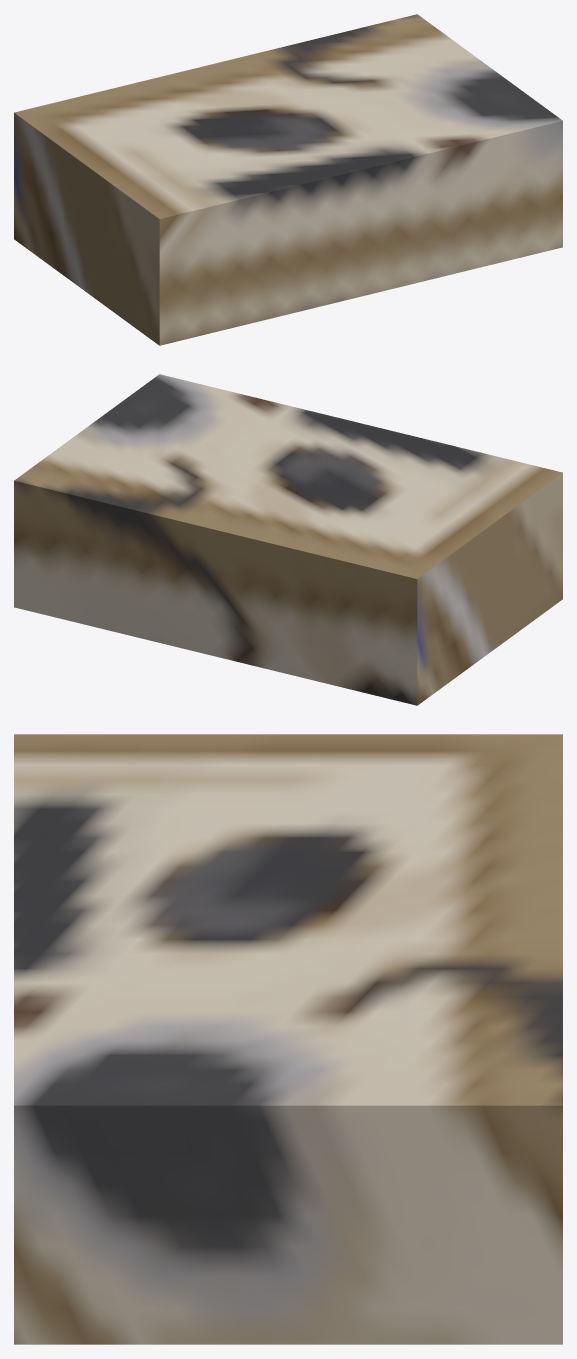
The model's file is pz_house_makeshift_ham.obj.
3 renders of one model, top to bottom at view 1: azimuth 30°, elevation 25°; view 2: azimuth 150°, elevation 25°; view 3: azimuth 270°, elevation 25°, orthographic. The views are drawn at different scales.
Parts seen in each view (by area): view 1: pz_house_makeshift_ham_|_1_caixa_painel_nativo; view 2: pz_house_makeshift_ham_|_1_caixa_painel_nativo; view 3: pz_house_makeshift_ham_|_1_caixa_painel_nativo.
Boxes of the visible parts, left/top/right/bottom form: pz_house_makeshift_ham_|_1_caixa_painel_nativo: left=14, top=14, right=562, bottom=345; pz_house_makeshift_ham_|_1_caixa_painel_nativo: left=14, top=374, right=562, bottom=705; pz_house_makeshift_ham_|_1_caixa_painel_nativo: left=14, top=734, right=562, bottom=1344.
Bounding box in the file's own units: 0.4 × 0.12 × 0.25.
1 material, 1 textured.
